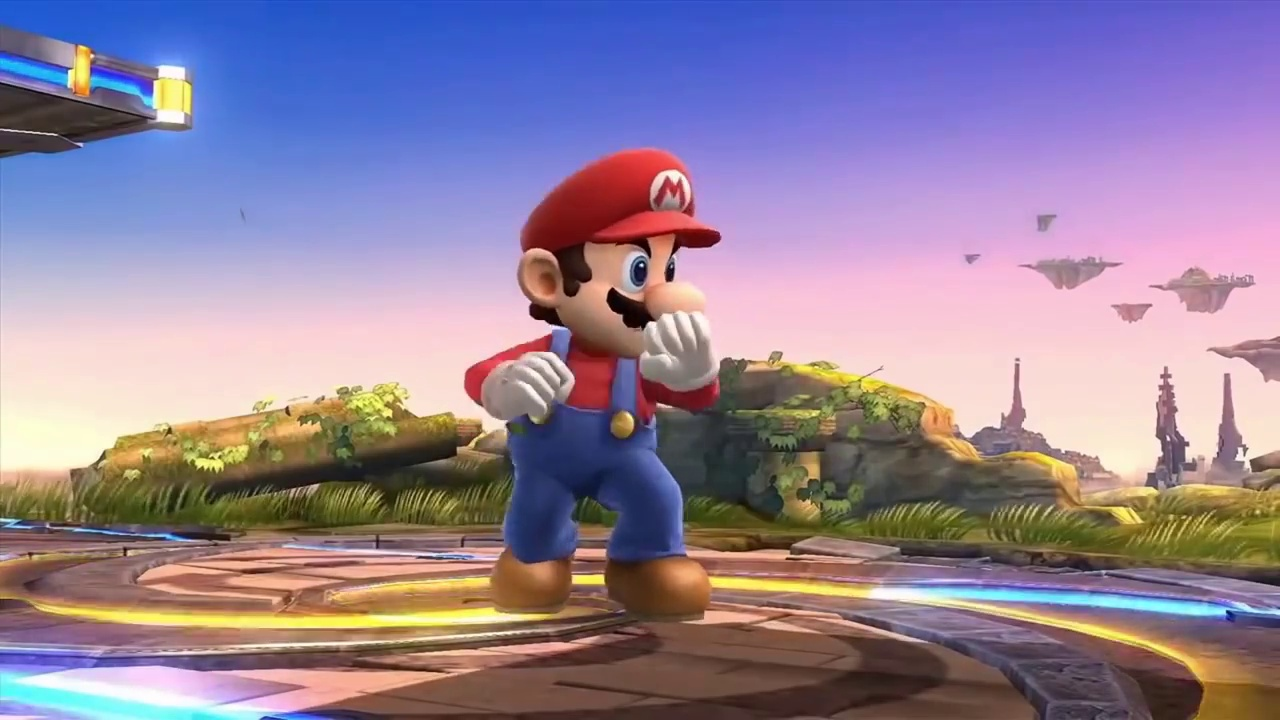Mario: (465, 145, 722, 624)
